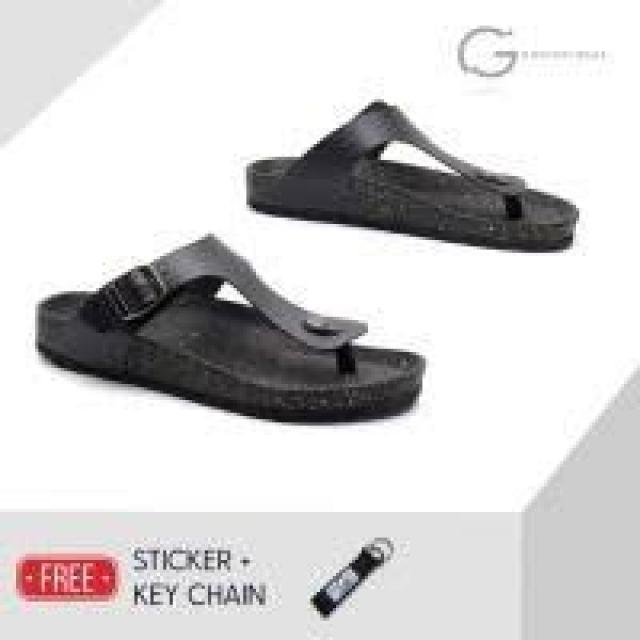Sandals: (16, 41, 608, 521)
